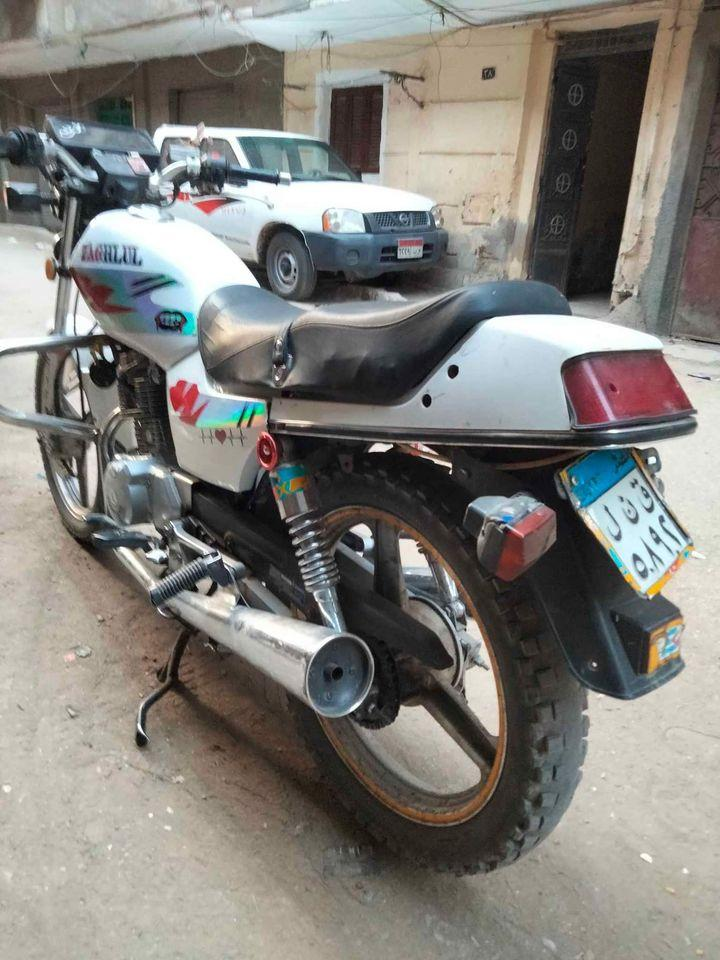License Plate: (561, 451, 696, 588)
